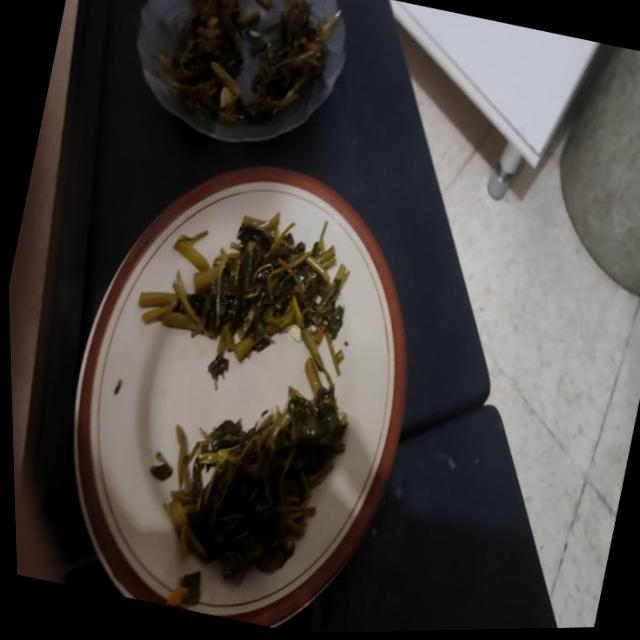tumis_kangkung: (142, 212, 349, 391), (166, 383, 348, 584), (158, 0, 258, 121), (248, 0, 336, 115)
